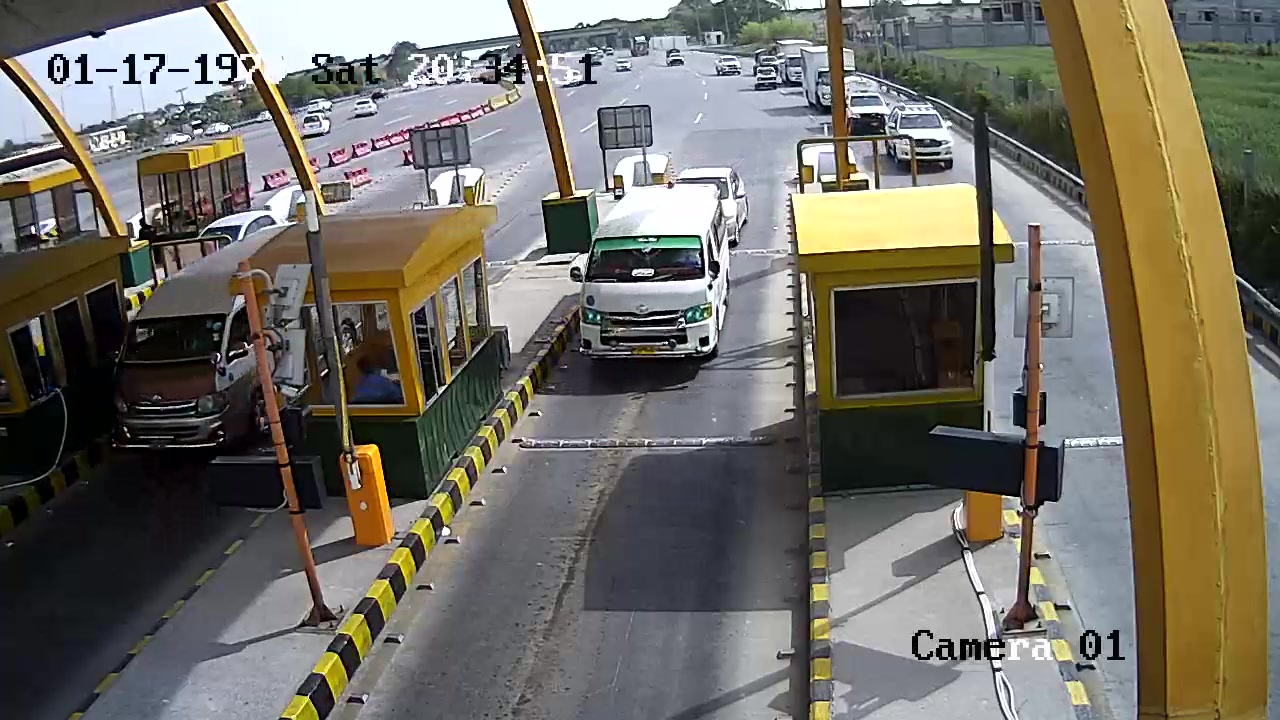F2: (561, 176, 748, 387)
